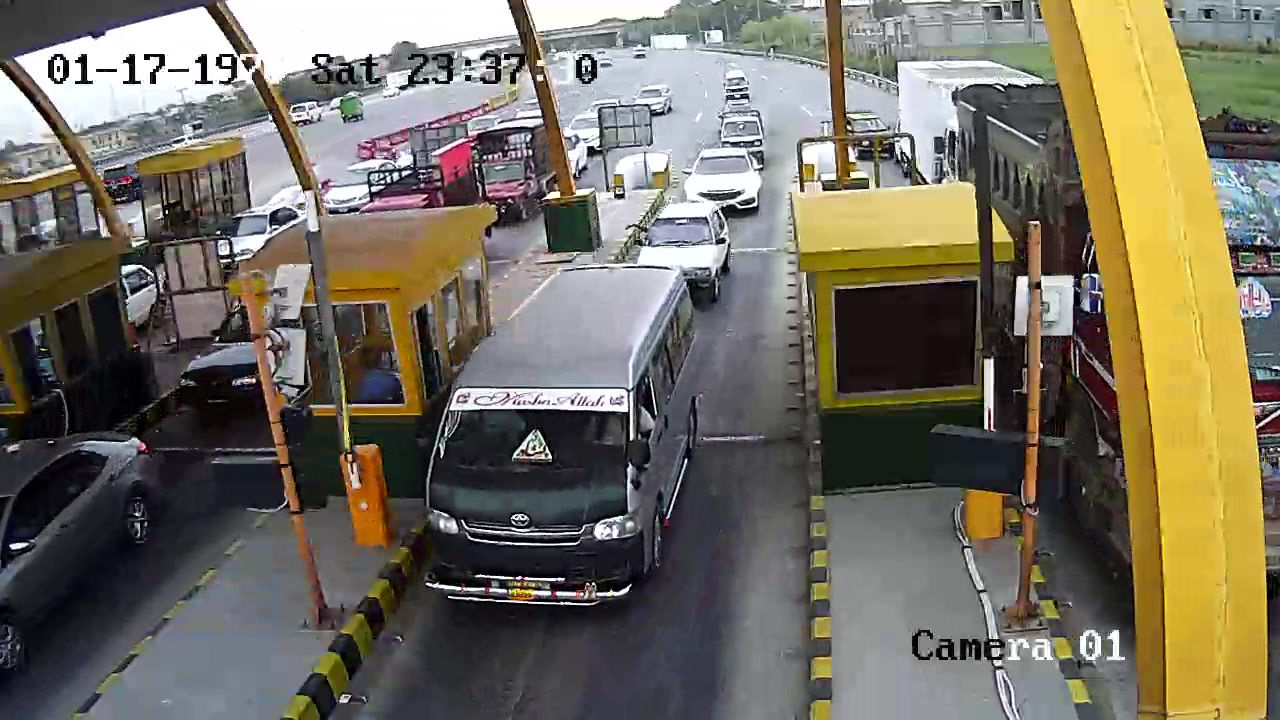F3: (417, 252, 700, 618)
